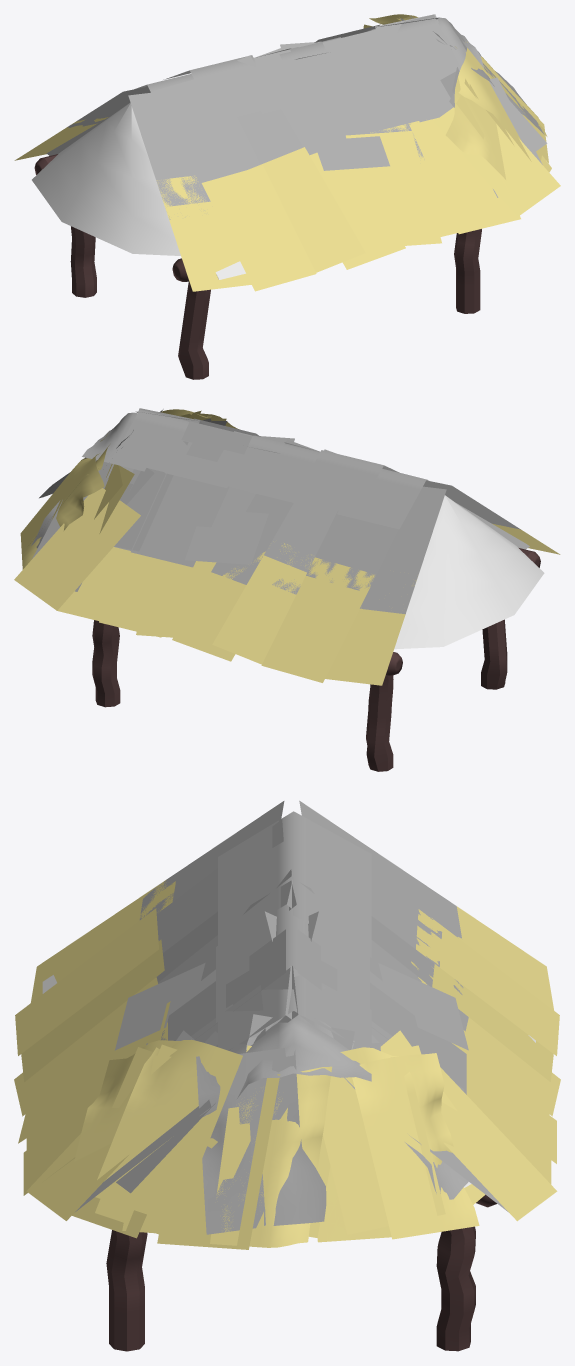
The model's file is hale.fbx.
The picture shows the model from 3 angles, top to bottom: view 1: azimuth 30°, elevation 25°; view 2: azimuth 150°, elevation 25°; view 3: azimuth 270°, elevation 25°; orthographic projection. The views are drawn at different scales.
Parts seen in each view (by area): view 1: hale; view 2: hale; view 3: hale.
Part boxes in pixels (x1=…): hale: x1=14, y1=14, x2=560, y2=379; hale: x1=14, y1=408, x2=560, y2=771; hale: x1=14, y1=800, x2=560, y2=1351.
Bounding box in the file's own units: 28.22 × 14.38 × 19.98.
